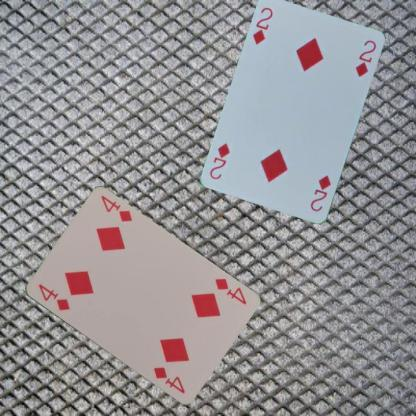2d: (250, 5, 275, 46), (308, 173, 333, 213)
4d: (35, 281, 71, 312), (212, 275, 247, 306)
